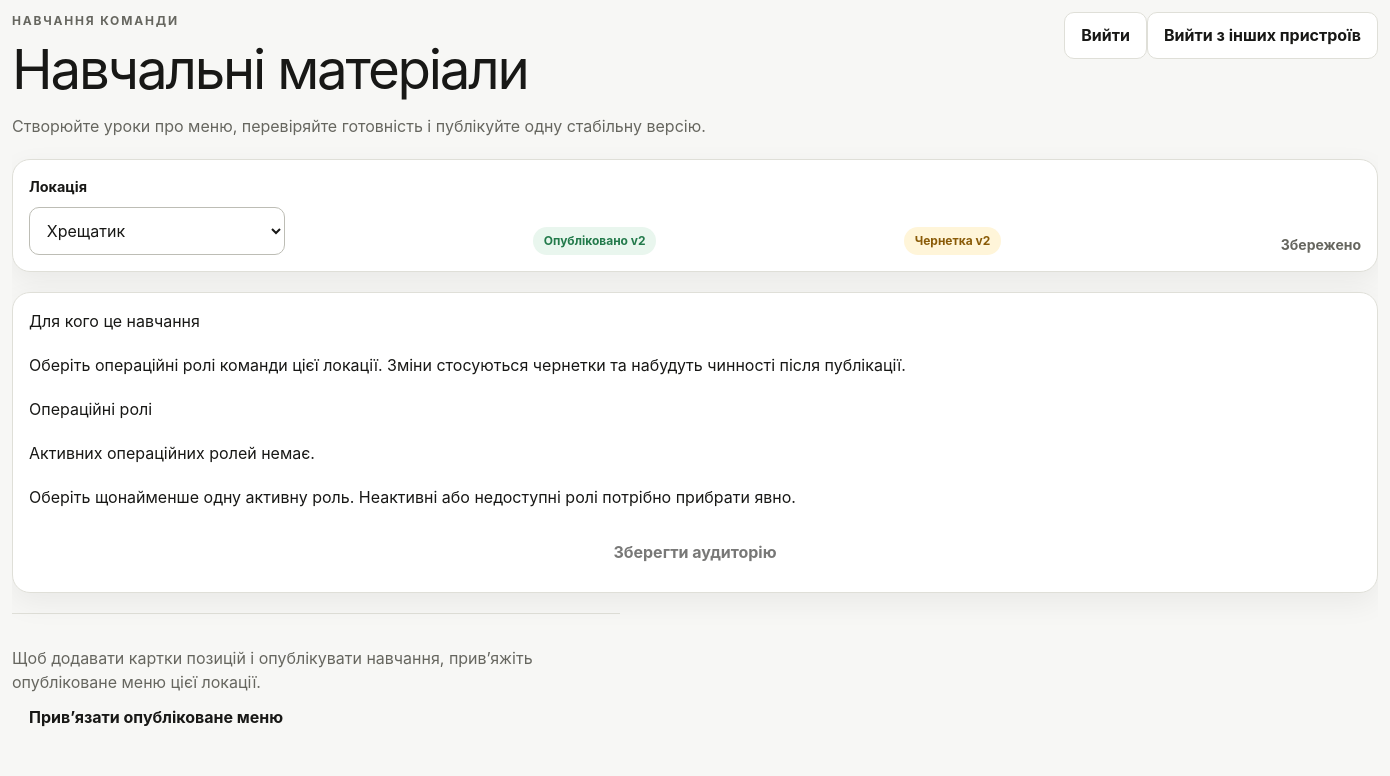
Test: Admin Training workspace › keeps recovery actionable after stale
Click the button "Прив’язати опубліковане меню" at (156, 717), box [12, 694, 300, 740]
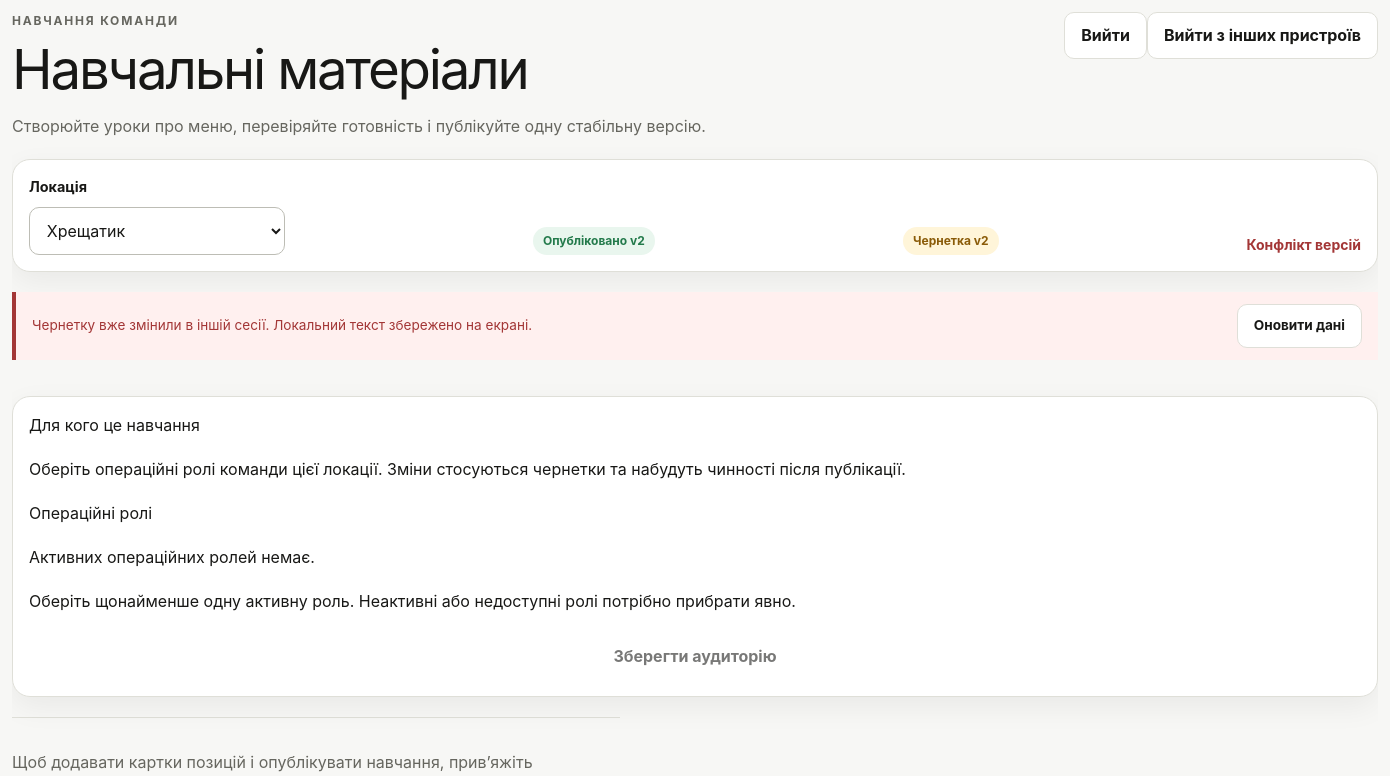
Now the message shows "Чернетку вже змінили в іншій сесії. Локальний текст збережено на екрані.", box [32, 317, 532, 333]
Now the button "Оновити дані" is shown, box [1237, 304, 1362, 348]
